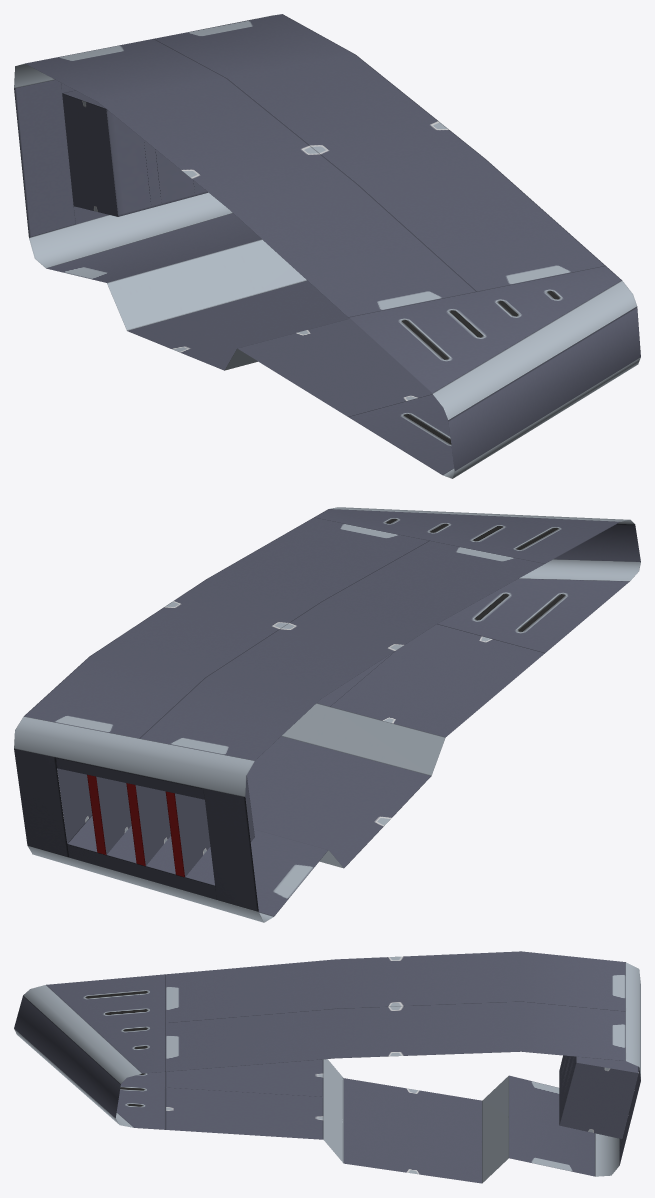
File: Reactor_Support_04.FBX
3 views of the same model, one above another, from view 1: azimuth 30°, elevation 25°; view 2: azimuth 150°, elevation 25°; view 3: azimuth 270°, elevation 25° (orthographic). The views are drawn at different scales.
Parts seen in each view (by area): view 1: Reactor_Support_04; view 2: Reactor_Support_04; view 3: Reactor_Support_04.
Part boxes in pixels (<box>): Reactor_Support_04: <box>14,14,640,478</box>; Reactor_Support_04: <box>14,507,640,922</box>; Reactor_Support_04: <box>14,951,640,1183</box>.
Bounding box in the file's own units: 2.12 × 1.64 × 6.25.
